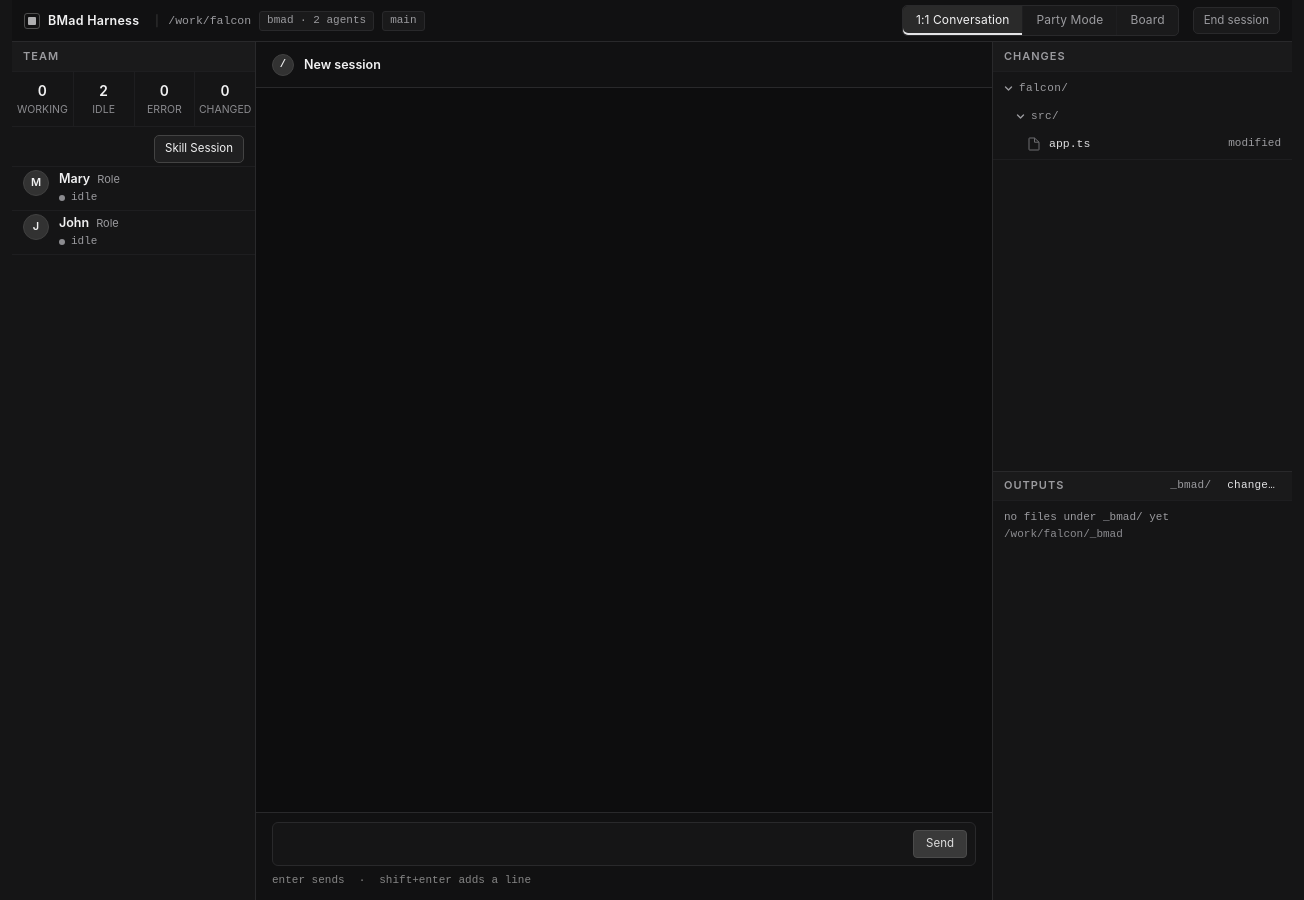
App, the conversation glue › shows a refused end as an error line, announces nothing, and keeps the thread
Click the button "M Mary Role idle": (134, 189) [12,167,255,211]
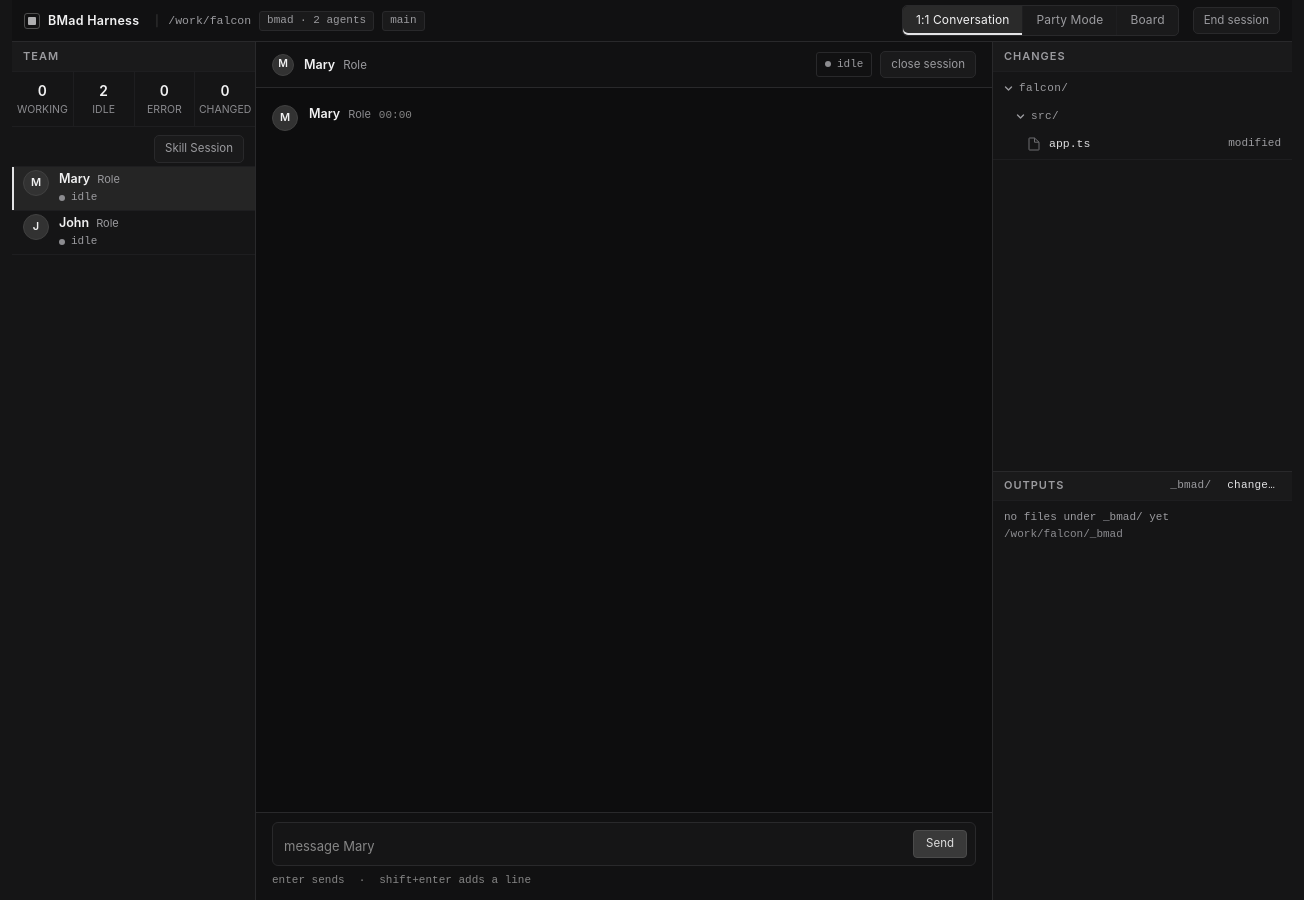
Click the button "End session": (1236, 20) [1193,7,1280,34]
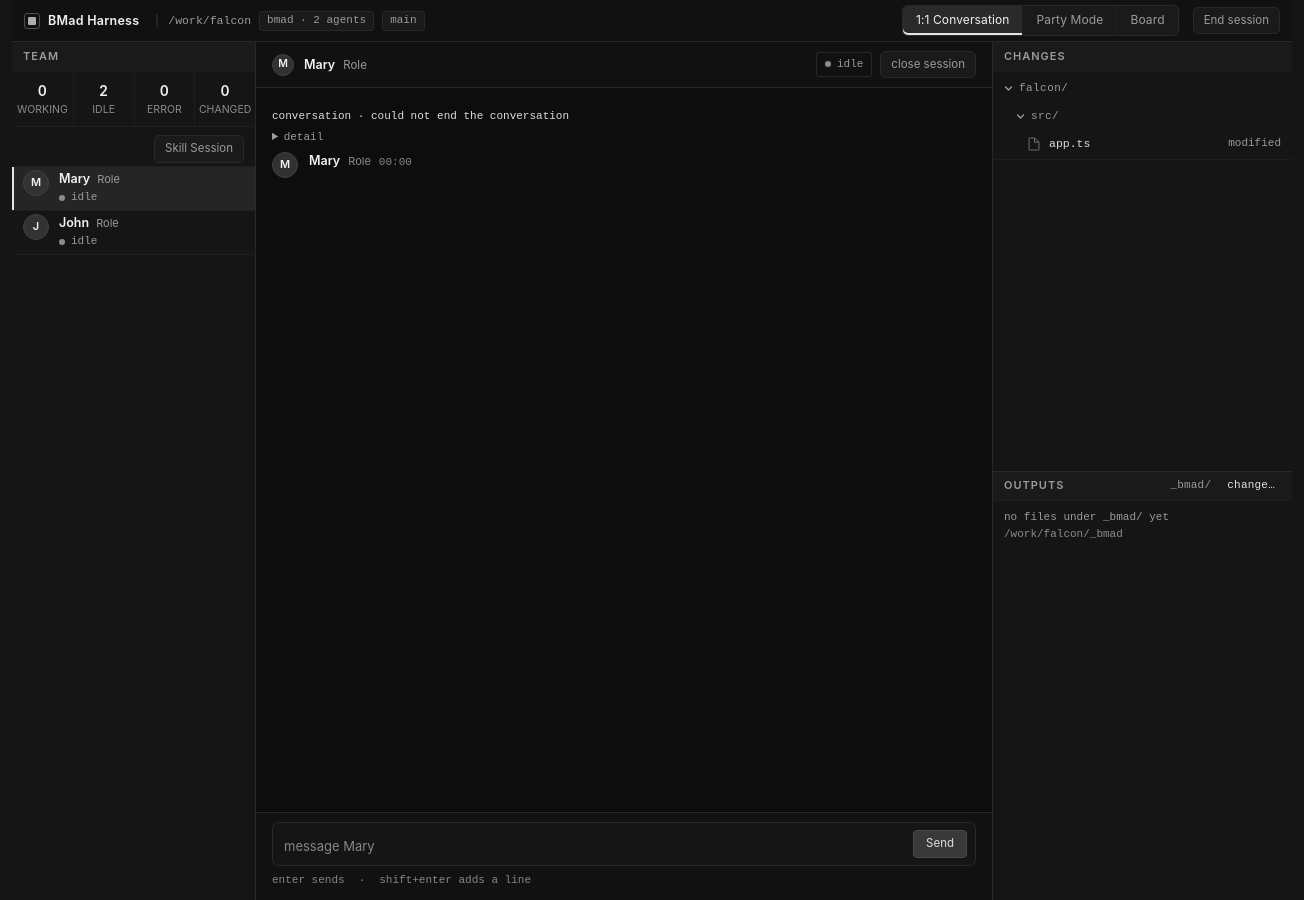
Check: the number of elements with class "turn" is 1, box [272,152,412,178]
Check: the text "conversation · could not end the conversation" is shown, box [272,110,569,122]
